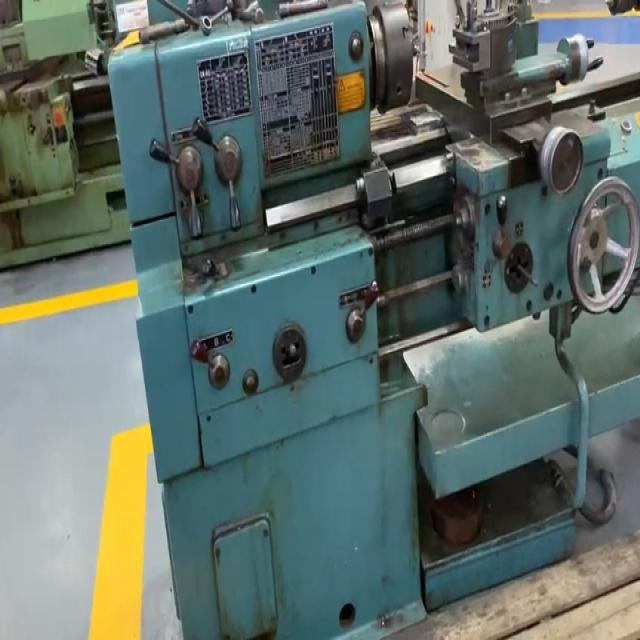tour parallele: (101, 0, 640, 640)
